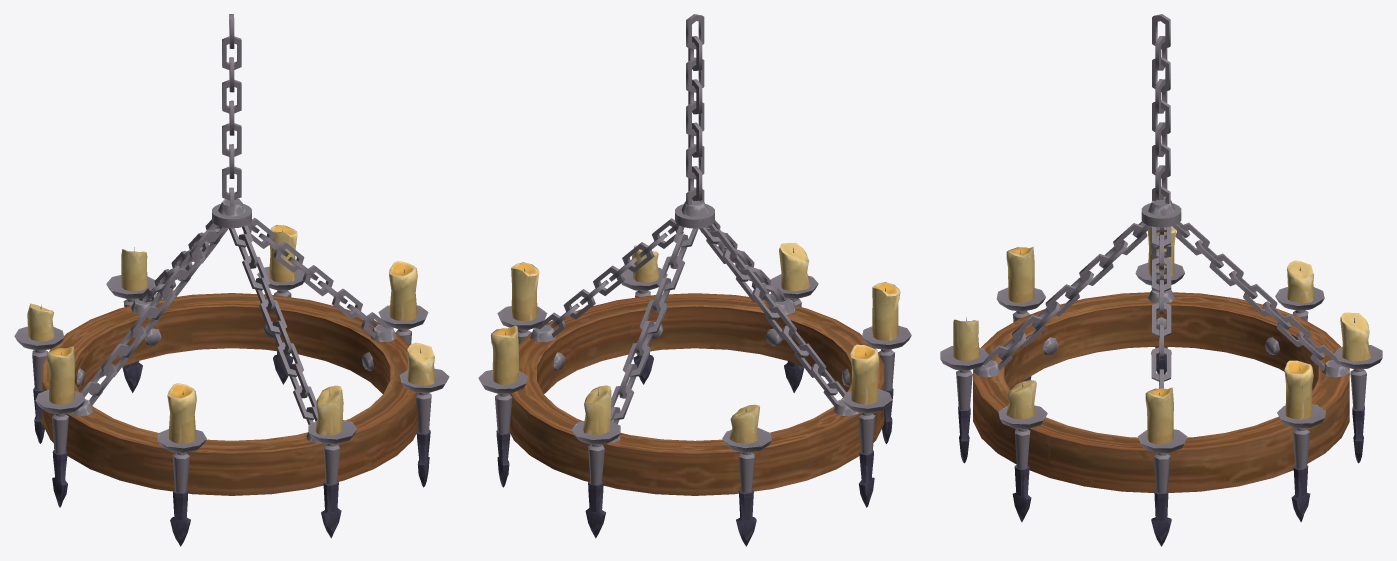
Rendered from Chandelier.glb.
The picture shows the model from 3 angles, left to right: view 1: azimuth 30°, elevation 25°; view 2: azimuth 150°, elevation 25°; view 3: azimuth 270°, elevation 25°; orthographic projection.
Visible parts, largest first — view 1: Chandelier; view 2: Chandelier; view 3: Chandelier.
Part boxes in pixels (bbox=[...]): Chandelier: bbox=[14, 14, 449, 546]; Chandelier: bbox=[478, 14, 911, 546]; Chandelier: bbox=[940, 14, 1382, 546].
Bounding box in the file's own units: 1.3 × 1.46 × 1.3.
3 materials, 3 textured.
